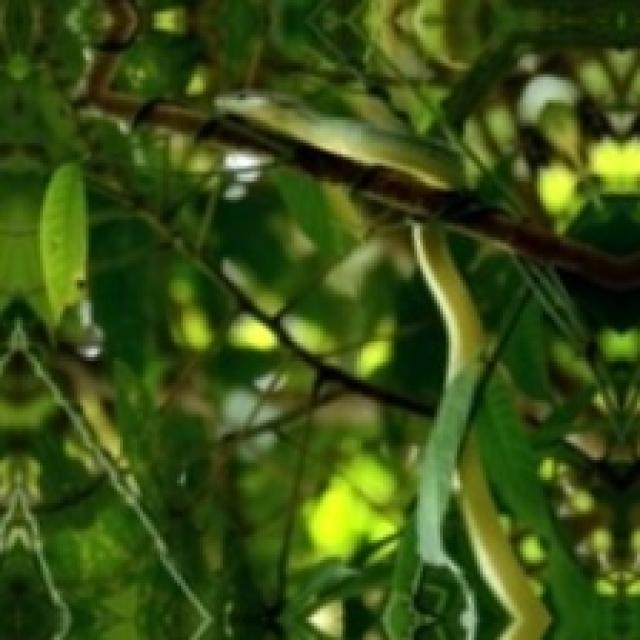red-tailed green ratsnake: (215, 92, 462, 188), (459, 440, 544, 639), (412, 222, 485, 384)
